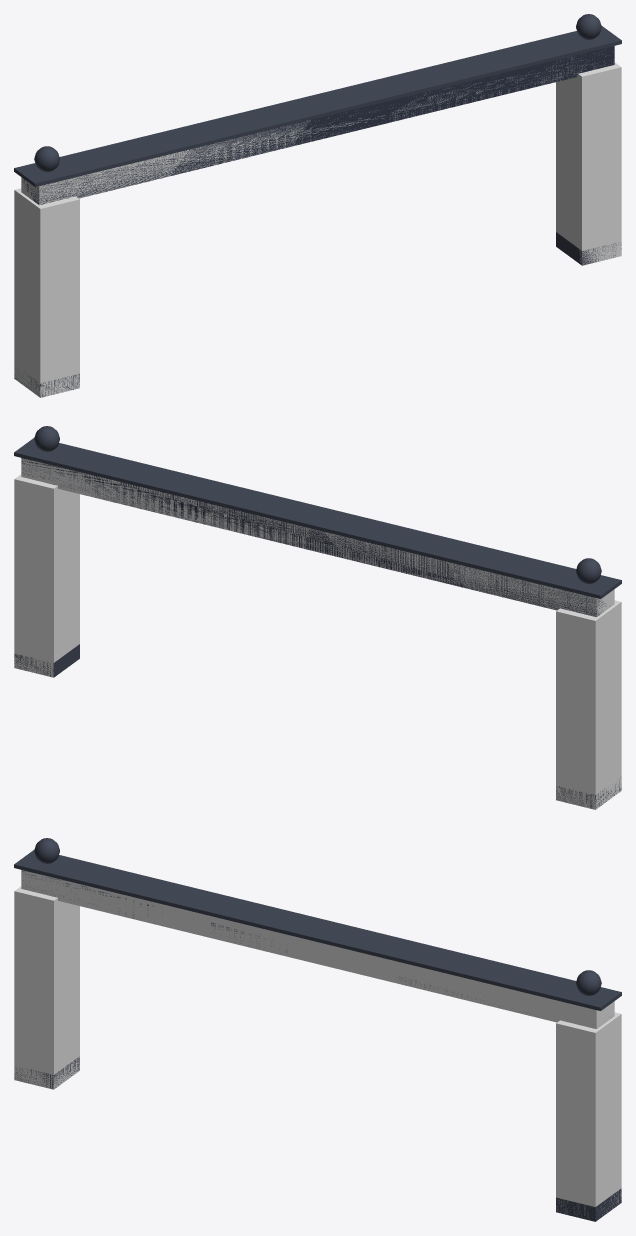
The model's file is gate_arch.glb.
The picture shows the model from 3 angles, top to bottom: view 1: azimuth 30°, elevation 25°; view 2: azimuth 150°, elevation 25°; view 3: azimuth 330°, elevation 25°; orthographic projection.
Parts seen in each view (by area): view 1: GateArch, COL_PillarL, COL_PillarR, COL_Beam; view 2: GateArch, COL_PillarL, COL_Beam, COL_PillarR; view 3: GateArch, COL_Beam, COL_PillarL, COL_PillarR.
Part boxes in pixels (x1=…): GateArch: x1=14, y1=14, x2=621, y2=397; COL_PillarL: x1=14, y1=188, x2=79, y2=397; COL_PillarR: x1=556, y1=62, x2=621, y2=264; COL_Beam: x1=21, y1=56, x2=614, y2=204; GateArch: x1=14, y1=426, x2=621, y2=809; COL_PillarL: x1=556, y1=600, x2=621, y2=809; COL_Beam: x1=21, y1=458, x2=614, y2=617; COL_PillarR: x1=14, y1=474, x2=79, y2=677; GateArch: x1=14, y1=838, x2=621, y2=1221; COL_Beam: x1=21, y1=870, x2=614, y2=1029; COL_PillarL: x1=14, y1=886, x2=79, y2=1089; COL_PillarR: x1=556, y1=1012, x2=621, y2=1217.
Bounding box in the file's own units: 10.4 × 4 × 0.8.
